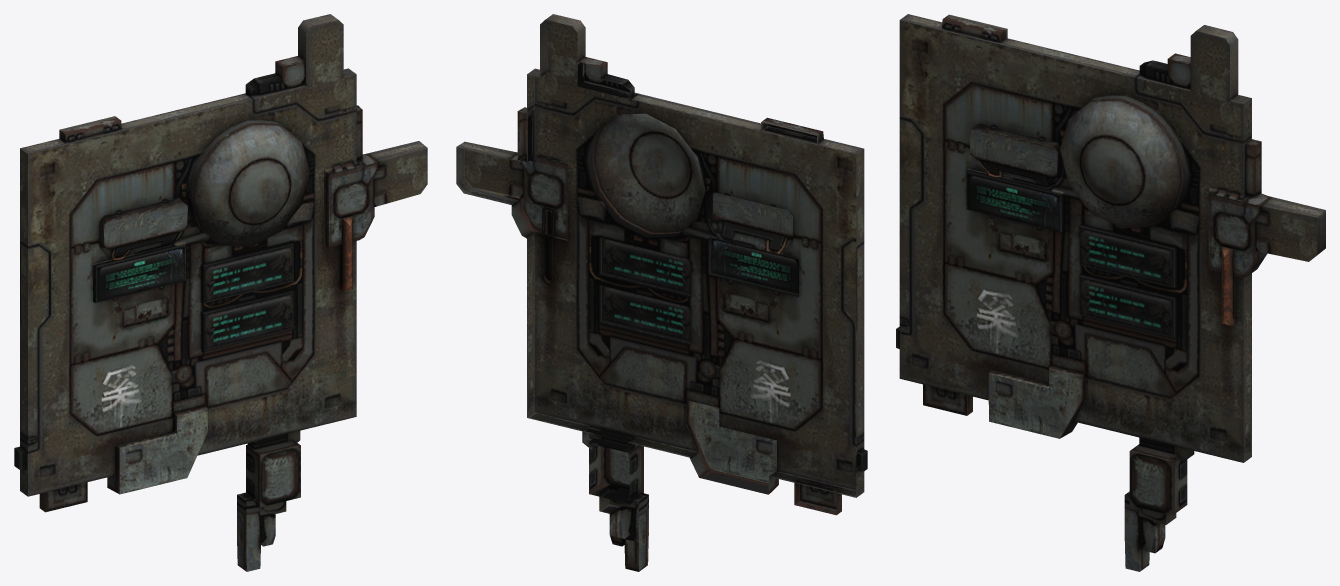
Rendered from airlock_wall_meters_01.DAE.
3 views of the same model, side by side, from view 1: azimuth 30°, elevation 25°; view 2: azimuth 150°, elevation 25°; view 3: azimuth 330°, elevation 25° (orthographic). The views are drawn at different scales.
Visible parts, largest first — view 1: airlock_wall_meters_01; view 2: airlock_wall_meters_01; view 3: airlock_wall_meters_01.
Part boxes in pixels (bbox=[...]): airlock_wall_meters_01: bbox=[14, 14, 427, 571]; airlock_wall_meters_01: bbox=[456, 14, 867, 571]; airlock_wall_meters_01: bbox=[896, 14, 1325, 571].
Size of the model in its own units: 22.34 by 2.37 by 27.86.
